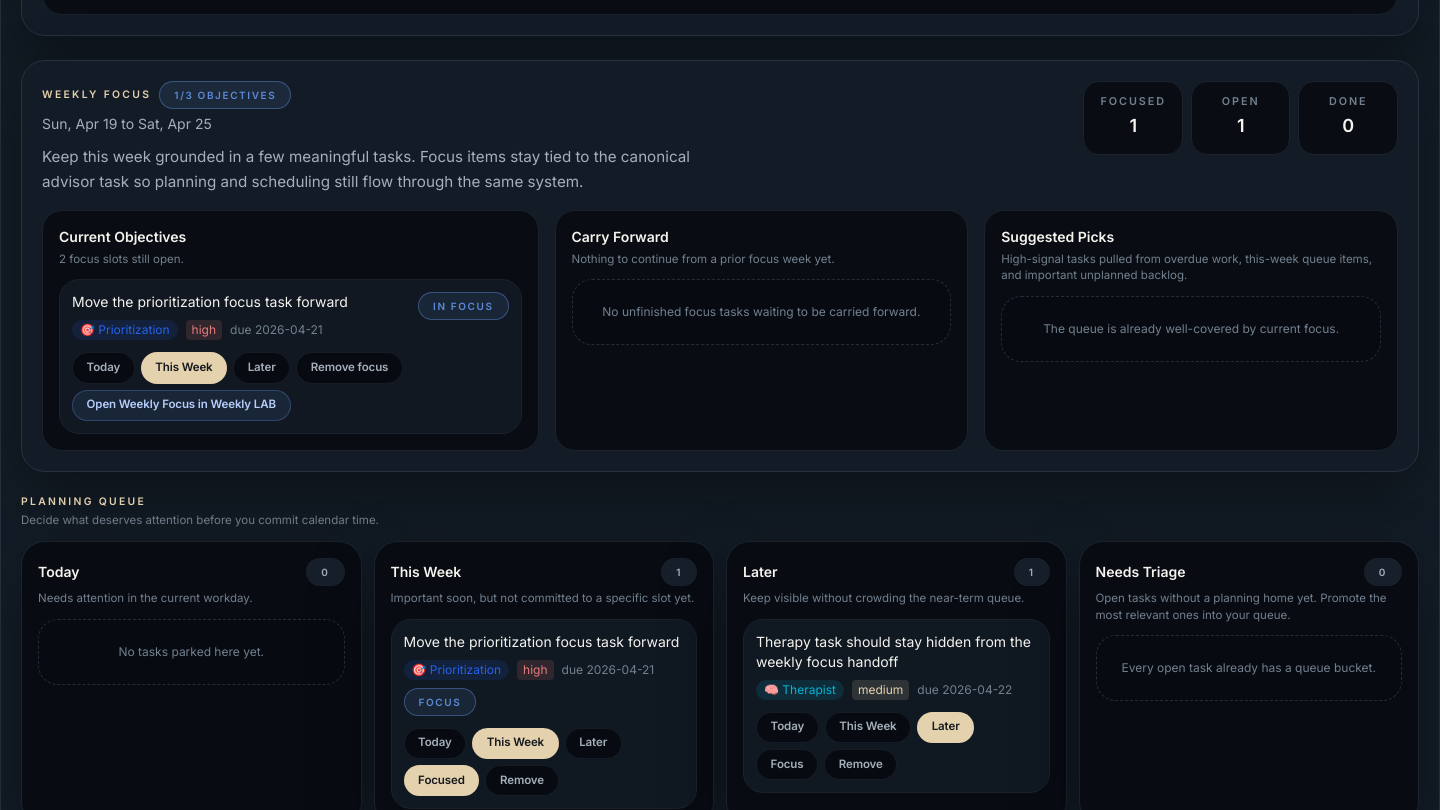
TaskDashboard › opens an advisor-scoped planner lane from a weekly focus card
(page scrolled)
Click the button "Open Weekly Focus in Weekly LAB": x=181, y=405 72,390 -> 290,421
(page scrolled)
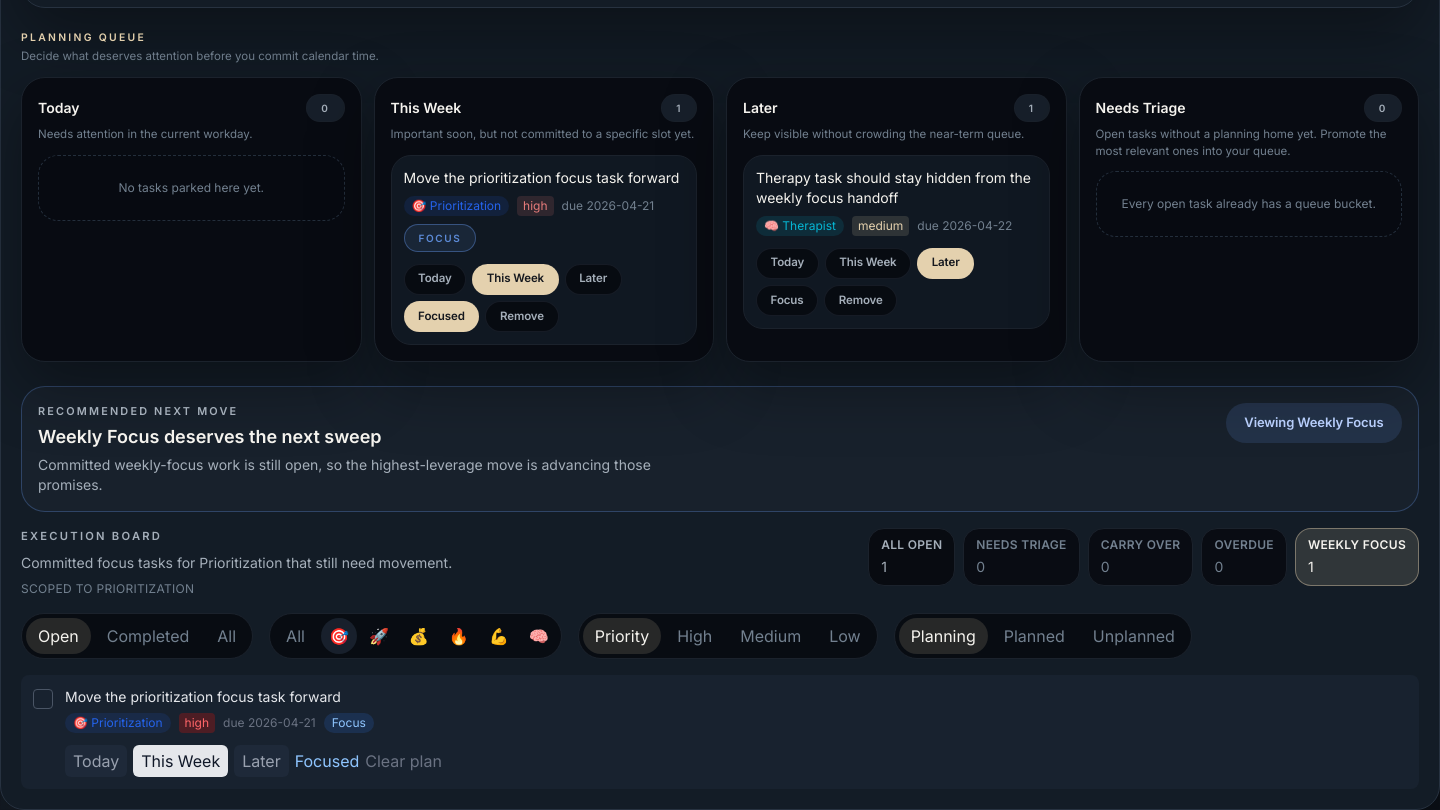
Expected: the text "Move the prioritization focus task forward" below "Scoped to" is shown, 65,688 -> 341,705
Result: the text "Scoped to Prioritization" is shown at 21,581 -> 194,596
Result: the button "Viewing Weekly Focus" is shown at 1226,403 -> 1402,443
